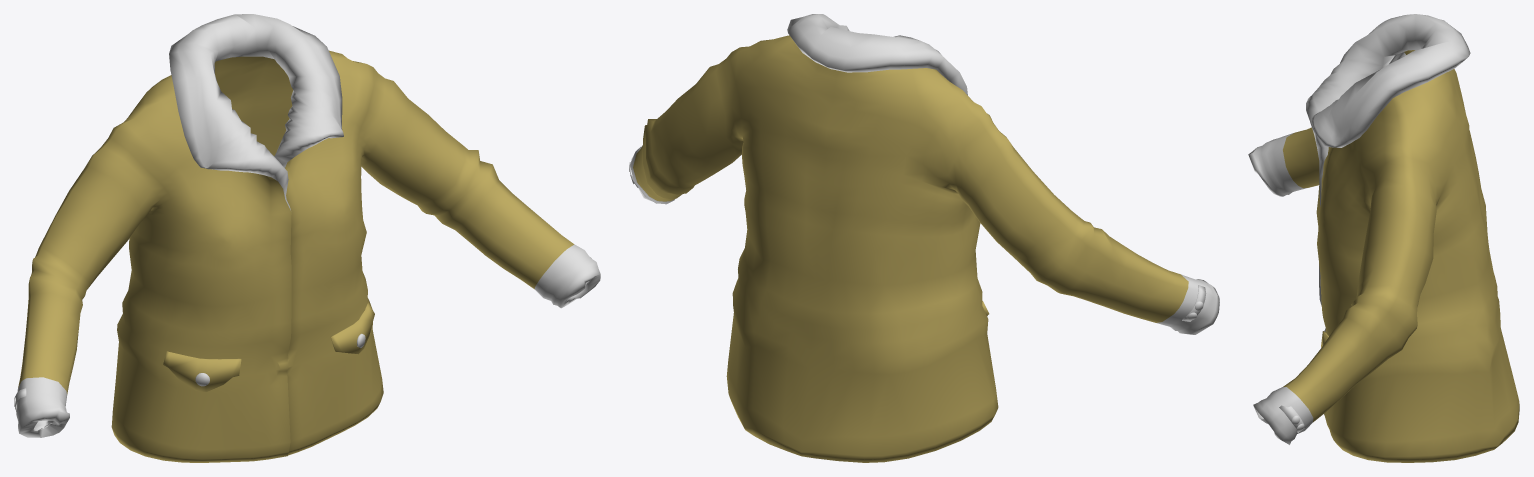
File: Jacket.dae
3 renders of one model, left to right at view 1: azimuth 30°, elevation 25°; view 2: azimuth 150°, elevation 25°; view 3: azimuth 270°, elevation 25°, orthographic. The views are drawn at different scales.
Visible parts, largest first — view 1: Jacket.002 (×4); view 2: Jacket.002 (×4); view 3: Jacket.002 (×4).
Part boxes in pixels (<box>): Jacket.002 (×4): <box>15,14,600,462</box>; Jacket.002 (×4): <box>630,14,1219,462</box>; Jacket.002 (×4): <box>1248,14,1519,462</box>.
Bounding box in the file's own units: 0.9224 × 0.6015 × 0.3818.
